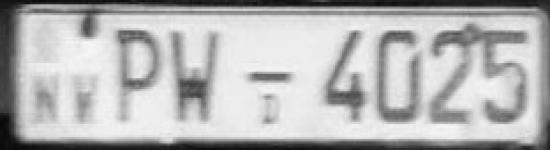-: (247, 66, 295, 90)
0: (376, 22, 428, 129)
2: (428, 24, 481, 129)
4: (317, 22, 374, 125)
5: (482, 22, 535, 130)
N: (24, 68, 68, 126)
P: (114, 24, 167, 126)
W: (167, 25, 229, 128), (69, 71, 104, 133)
